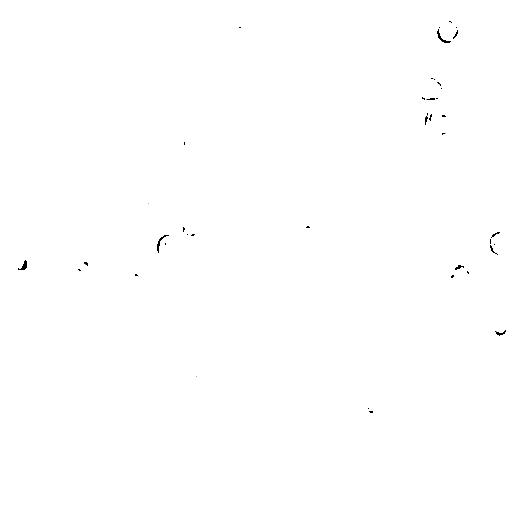micro-algae: (194, 75, 295, 177), (86, 129, 153, 193), (149, 57, 213, 123), (215, 103, 275, 157), (85, 263, 125, 302), (67, 309, 105, 346), (383, 279, 420, 317), (423, 105, 456, 136), (156, 232, 184, 263), (59, 103, 88, 132), (40, 475, 66, 506), (446, 261, 471, 293), (144, 253, 172, 279), (317, 293, 343, 319), (488, 229, 512, 257), (165, 423, 191, 448), (437, 19, 461, 44), (193, 361, 216, 387), (292, 15, 315, 39), (419, 76, 443, 99), (363, 222, 385, 247), (487, 6, 509, 29), (371, 39, 393, 61), (137, 188, 157, 211), (232, 19, 255, 39), (351, 271, 371, 294), (343, 320, 364, 341), (9, 253, 30, 273), (295, 241, 321, 257), (169, 129, 189, 149), (297, 223, 319, 241), (195, 288, 213, 309), (251, 0, 283, 11), (181, 219, 201, 236), (73, 258, 92, 275), (403, 427, 420, 446), (183, 498, 206, 512), (363, 397, 380, 415), (490, 319, 508, 336), (502, 111, 512, 137), (127, 272, 142, 286), (242, 505, 262, 512)
